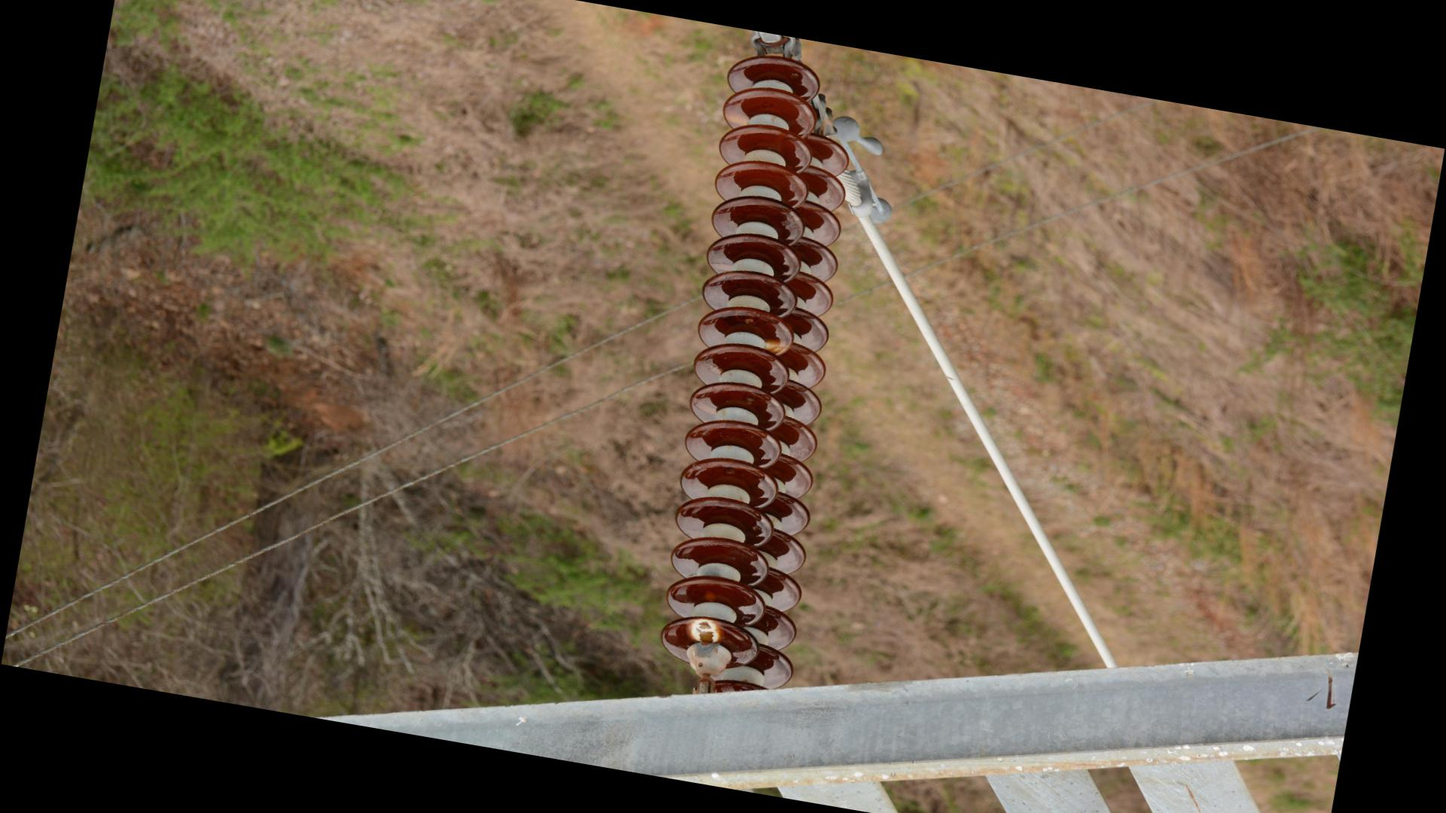damper: (813, 111, 910, 232)
